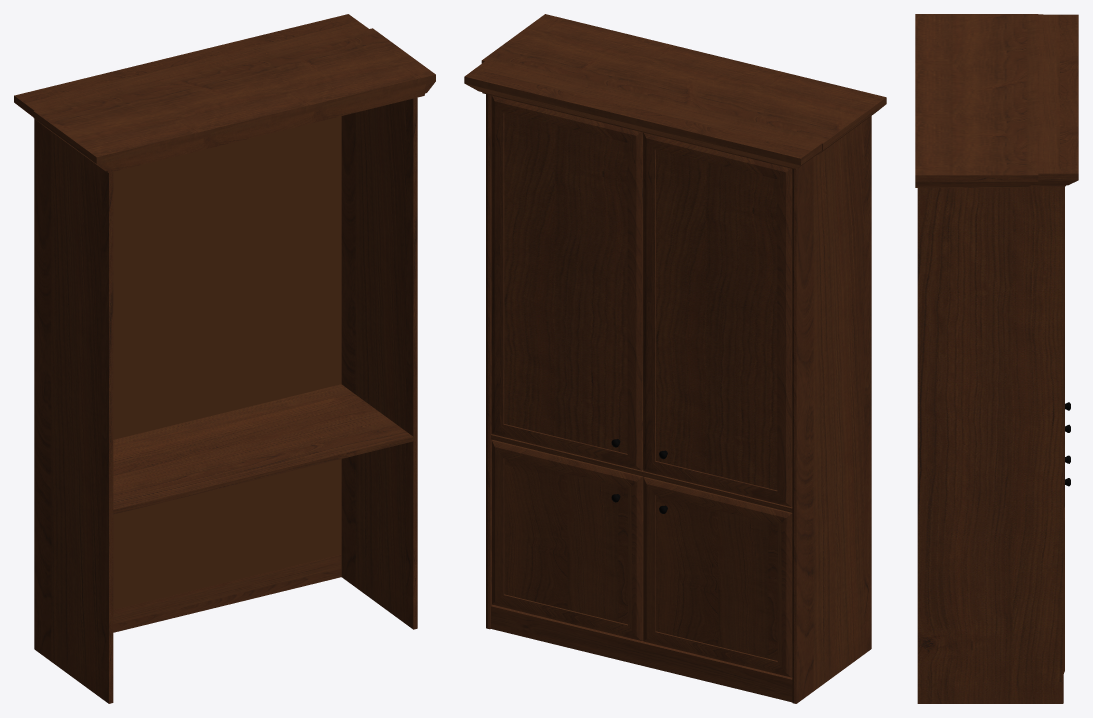
The model's file is yigui1.fbx.
3 renders of one model, left to right at view 1: azimuth 30°, elevation 25°; view 2: azimuth 150°, elevation 25°; view 3: azimuth 270°, elevation 25°, orthographic. The views are drawn at different scales.
Visible parts, largest first — view 1: yigui1; view 2: yigui1; view 3: yigui1.
Part boxes in pixels (x1,y1,x2,y2): yigui1: (14, 14, 435, 703); yigui1: (464, 14, 886, 703); yigui1: (915, 14, 1078, 703).
Size of the model in its own units: 154 by 238 by 65.84.
